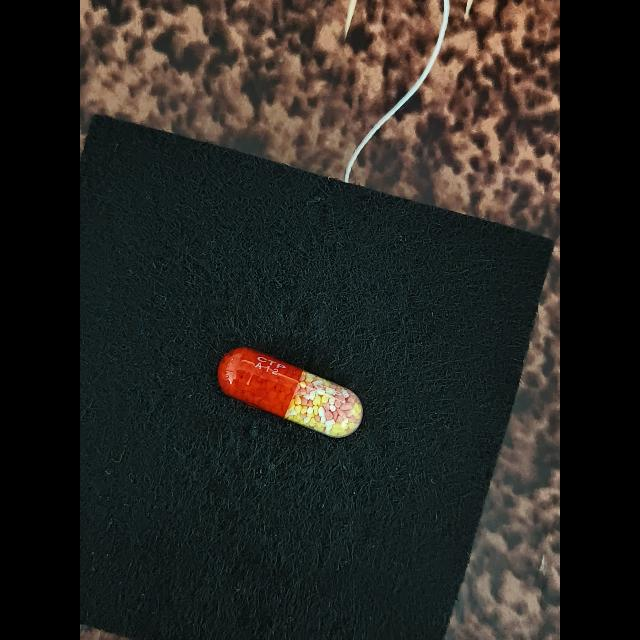Intact Capsule: (218, 347, 363, 438)
